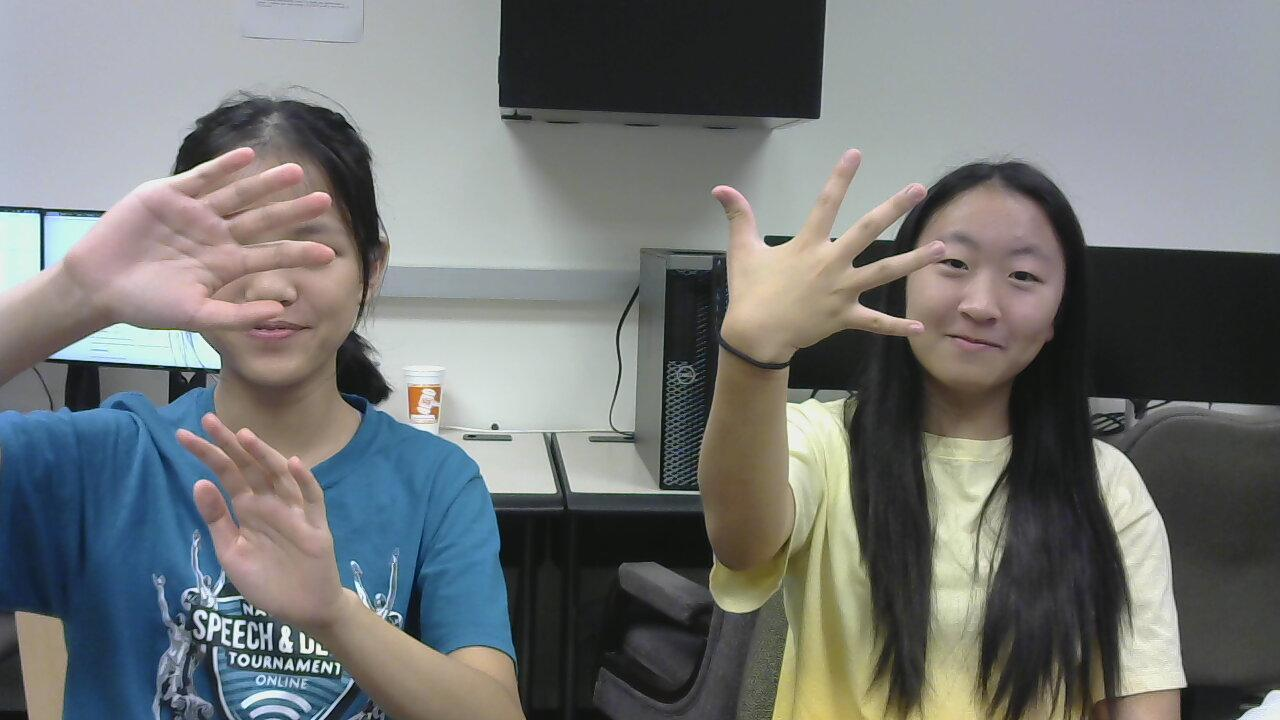hands: (55, 136, 346, 353), (143, 394, 372, 620), (701, 157, 952, 346)
